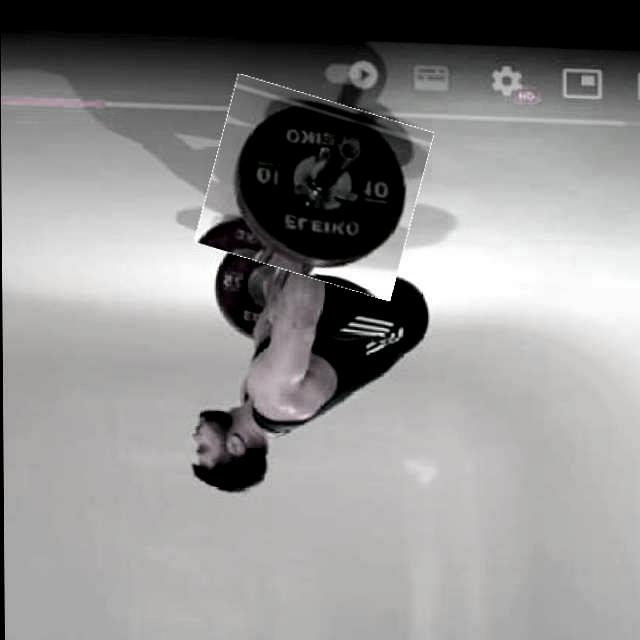barbell: (203, 83, 425, 288)
